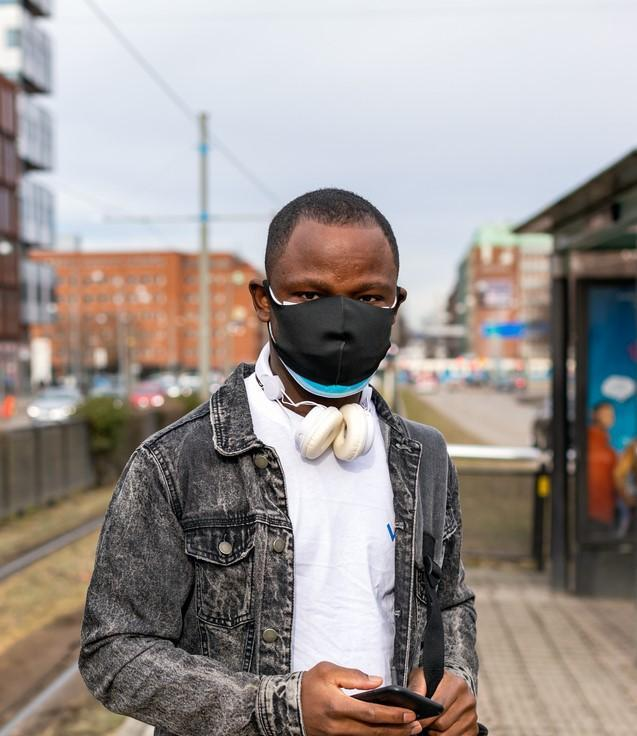mask: (252, 276, 412, 394)
